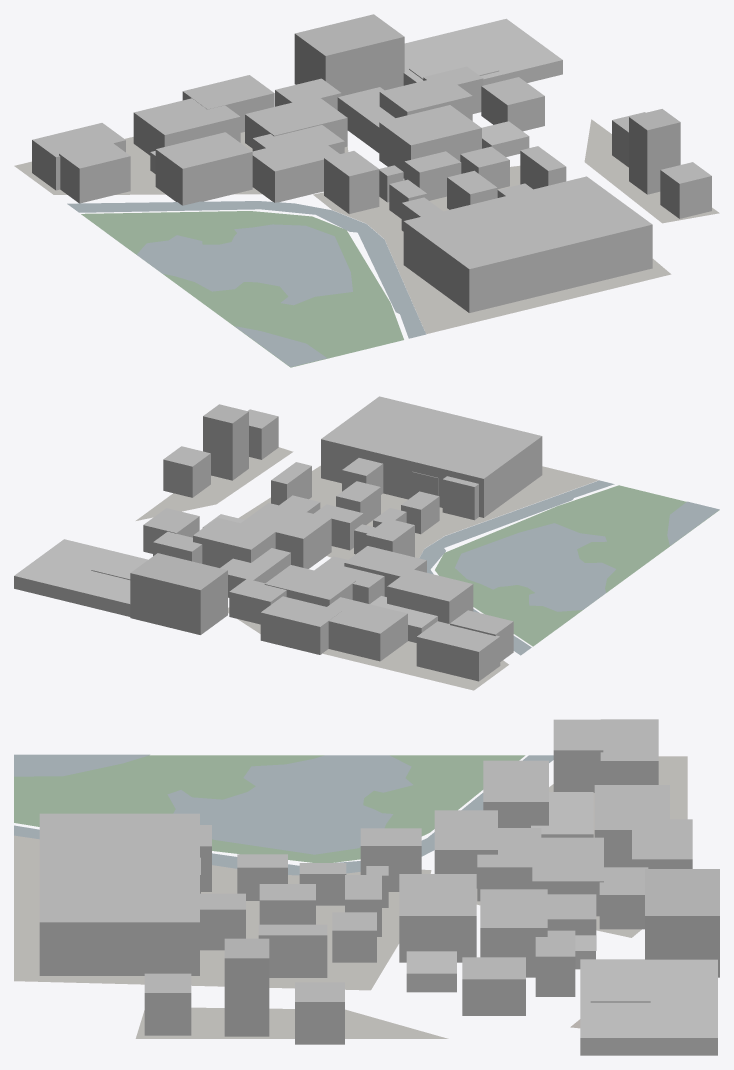
Rendered from 124_91_mid.glb.
The picture shows the model from 3 angles, top to bottom: view 1: azimuth 30°, elevation 25°; view 2: azimuth 150°, elevation 25°; view 3: azimuth 270°, elevation 25°; orthographic projection. The views are drawn at different scales.
Bounding box in the file's own units: 527 × 66.6 × 524.
